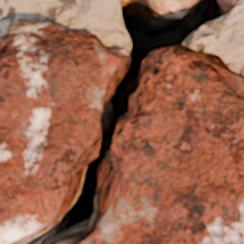broken_brick: (82, 45, 243, 243), (0, 17, 128, 243)
crack: (1, 0, 243, 243)
